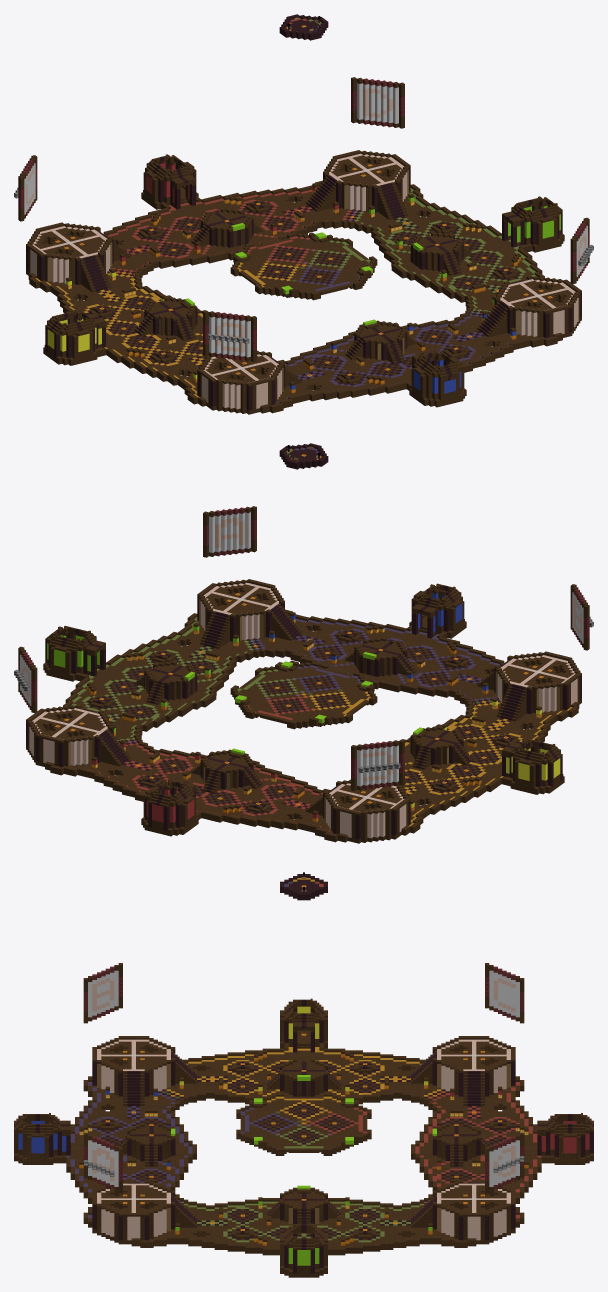
File: minecraft.obj
3 views of the same model, one above another, from view 1: azimuth 30°, elevation 25°; view 2: azimuth 150°, elevation 25°; view 3: azimuth 270°, elevation 25° (orthographic).
Size of the model in its own units: 133 by 70.02 by 133.
